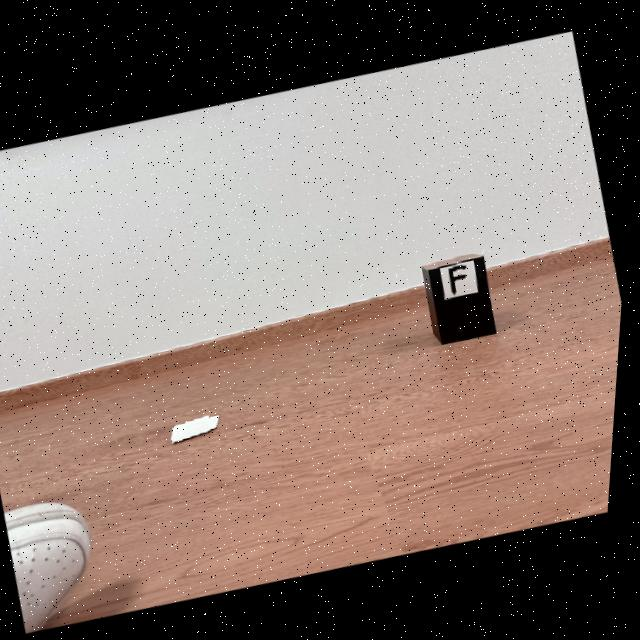F: (451, 261, 470, 290)
